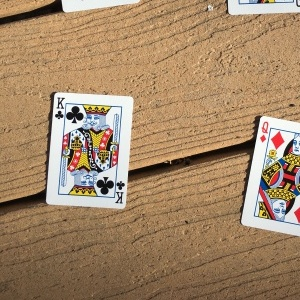card: (46, 89, 135, 211)
